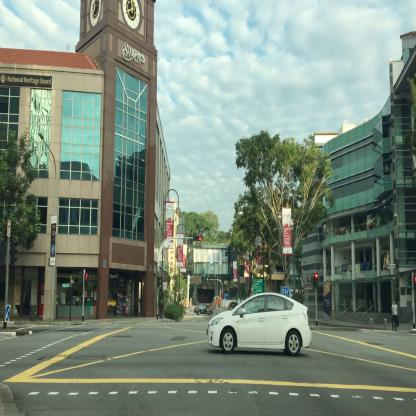red_traffic_light: (314, 272, 318, 287), (193, 235, 201, 240)
